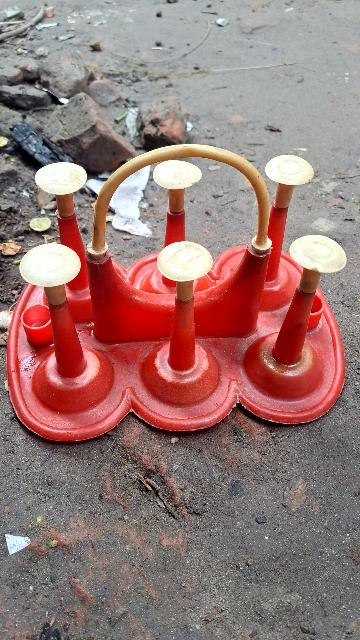hardplastic: (19, 161, 341, 420)
